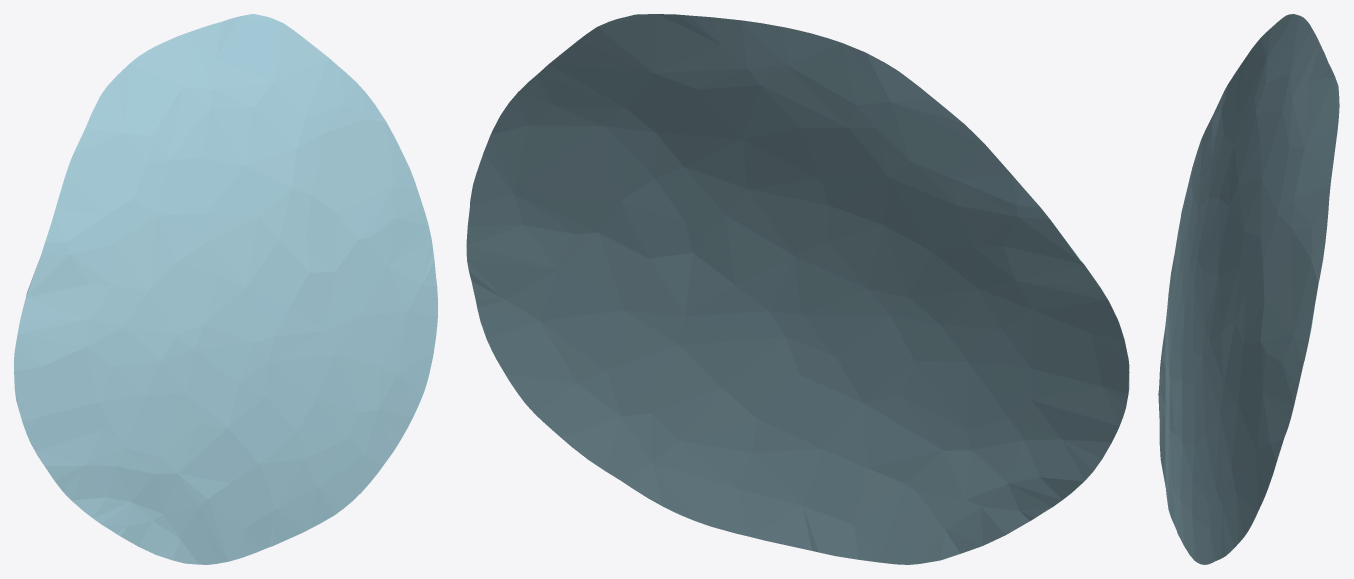
File: tumorProjUpdate.obj
The picture shows the model from 3 angles, left to right: view 1: azimuth 30°, elevation 25°; view 2: azimuth 150°, elevation 25°; view 3: azimuth 270°, elevation 25°; orthographic projection. The views are drawn at different scales.
Parts seen in each view (by area): view 1: grp1; view 2: grp1; view 3: grp1.
Part boxes in pixels (x1,y1,x2,y2): grp1: (14, 14, 437, 564); grp1: (466, 14, 1129, 564); grp1: (1158, 14, 1339, 564).
Bounding box in the file's own units: 0.0361 × 0.0347 × 0.0117.
